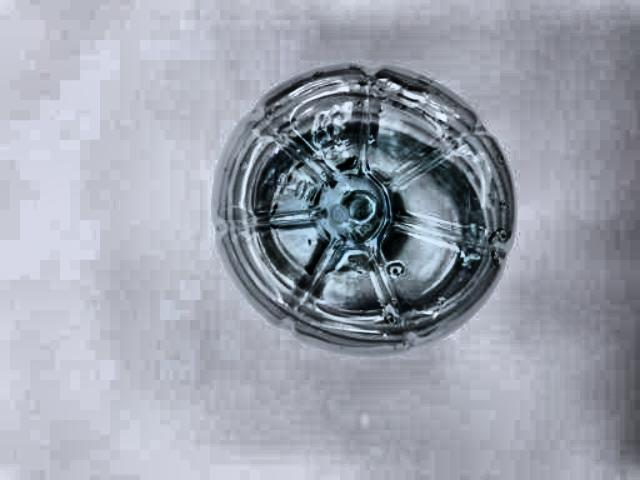Bottles: (213, 62, 525, 352)
